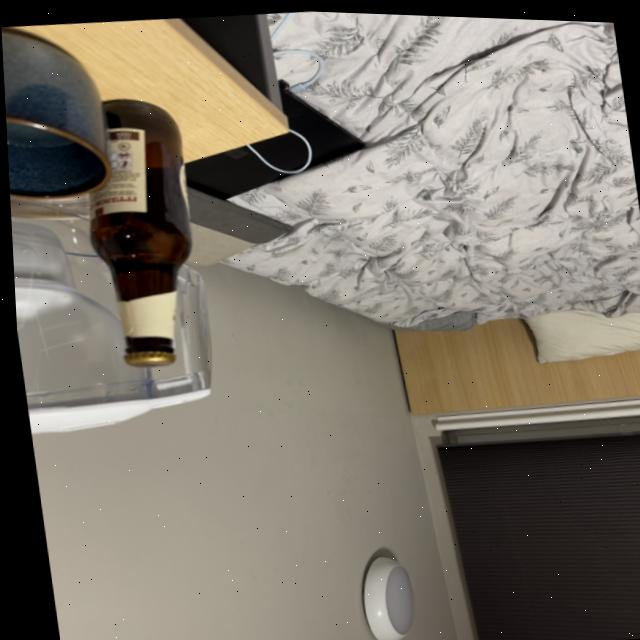beer: (64, 87, 213, 374)
